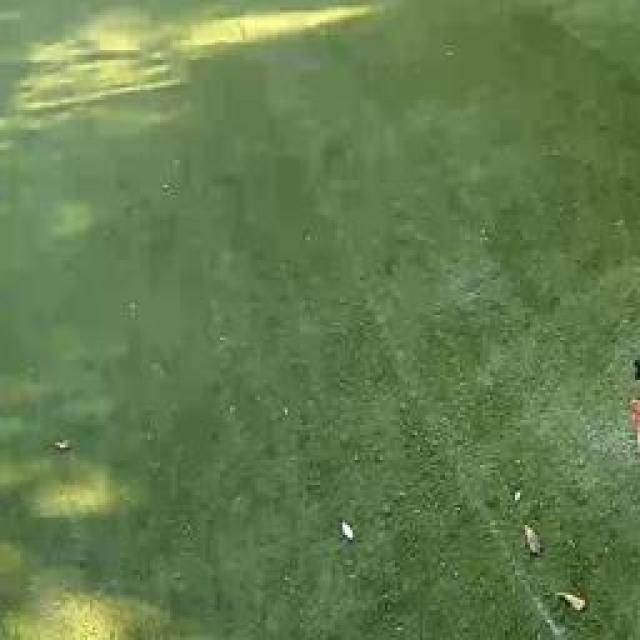Guns: (625, 330, 640, 482)
